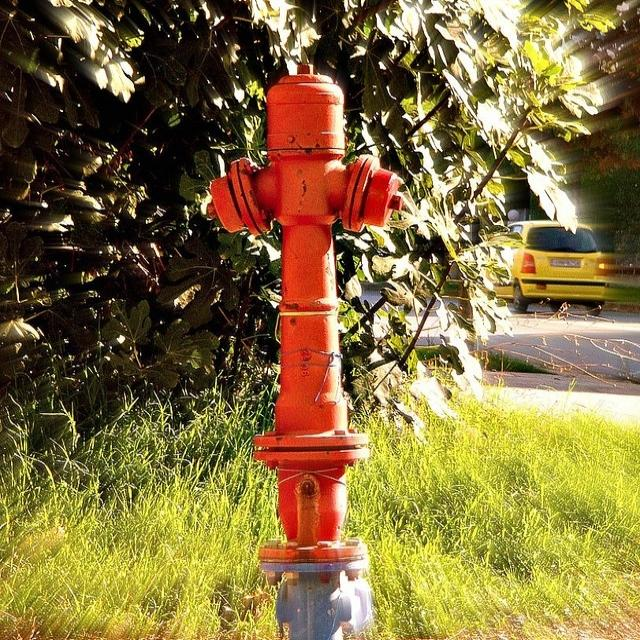fire_hydrant: (192, 48, 448, 640)
